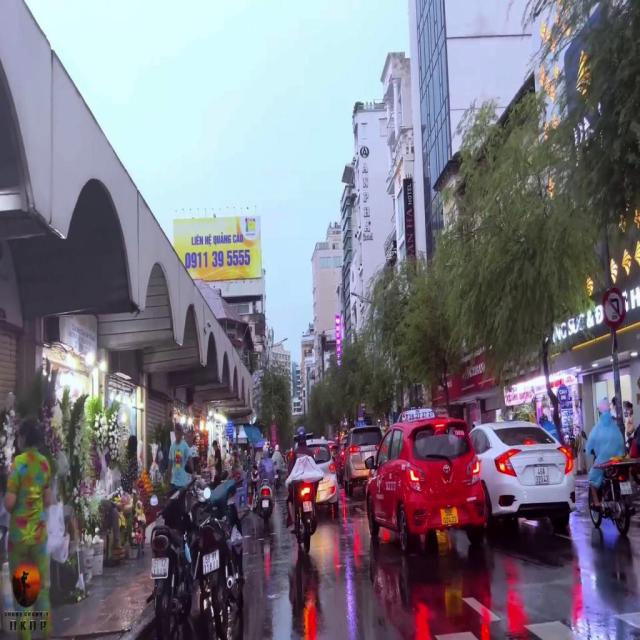cam_o_to_re_trai: (602, 288, 626, 328)
